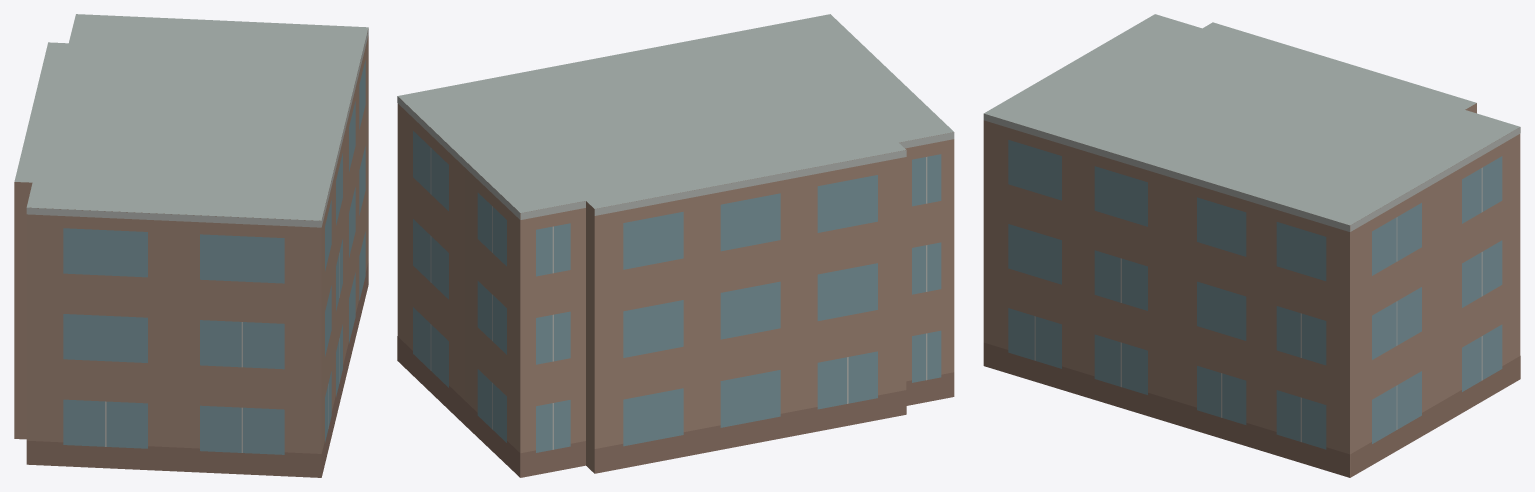
File: survey-upis-32797645.glb
The picture shows the model from 3 angles, left to right: view 1: azimuth 30°, elevation 25°; view 2: azimuth 150°, elevation 25°; view 3: azimuth 270°, elevation 25°; orthographic projection. The views are drawn at different scales.
Visible parts, largest first — view 1: survey-upis-32797645.tmp; view 2: survey-upis-32797645.tmp; view 3: survey-upis-32797645.tmp.
Part boxes in pixels (x1,y1,x2,y2): survey-upis-32797645.tmp: [14, 14, 368, 477]; survey-upis-32797645.tmp: [397, 14, 954, 477]; survey-upis-32797645.tmp: [983, 14, 1520, 477].
Size of the model in its own units: 16.45 by 9.15 by 17.64.
